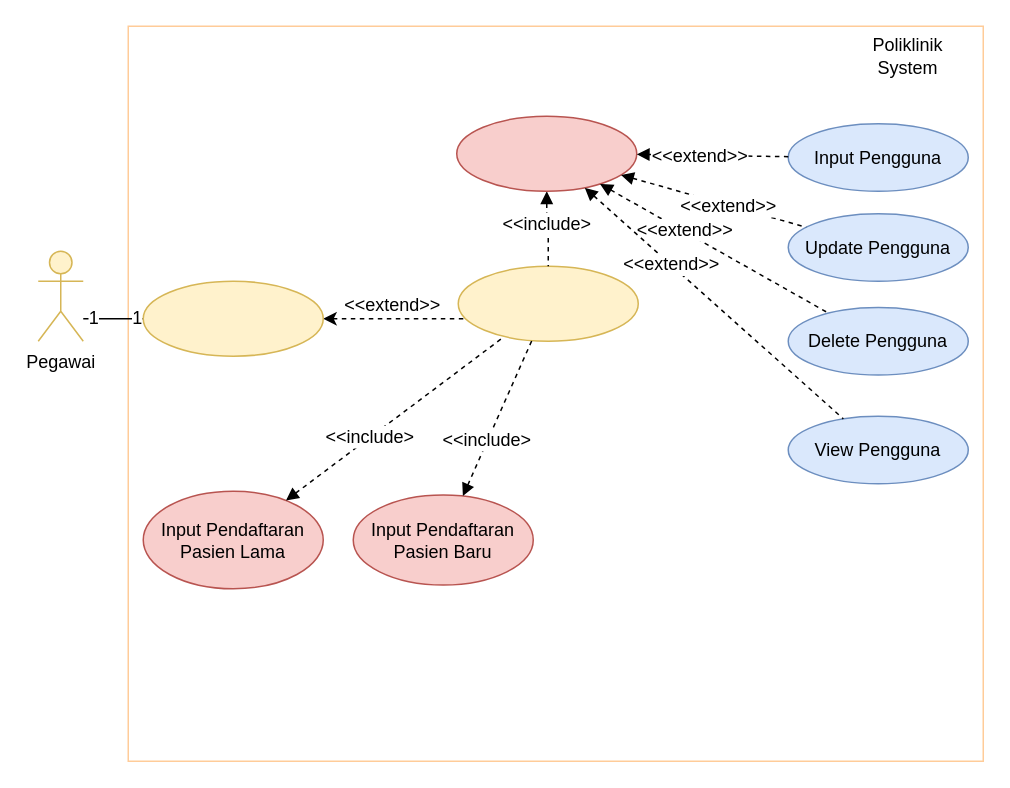
The diagram is 1010 pixels wide and 788 high, and some of its shapes have lost their labels. The shapes that lost their labels are listed below. From the top down, each one's centre as x and y in pixels, then its label:
pixel 546 153: Kelola Pengguna
pixel 232 318: Login
pixel 547 303: Main Menu
